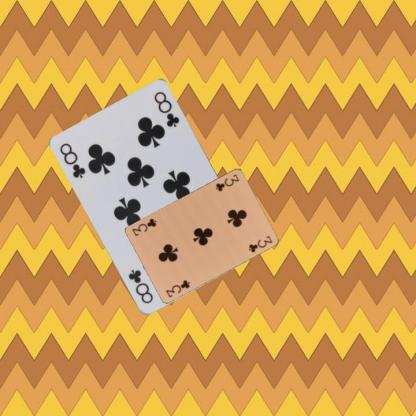3c: (163, 277, 191, 298), (213, 172, 240, 192)
8c: (57, 140, 87, 180)
